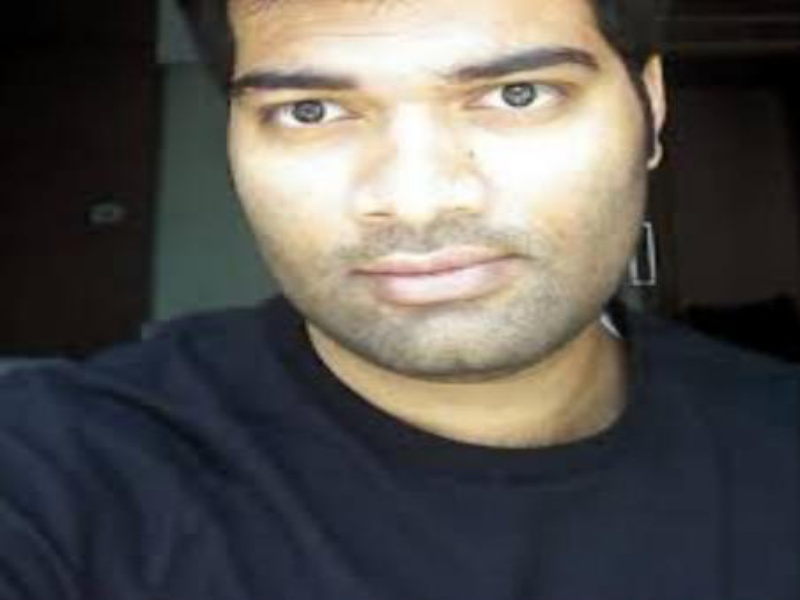TsisyArotava: (160, 1, 710, 368)
